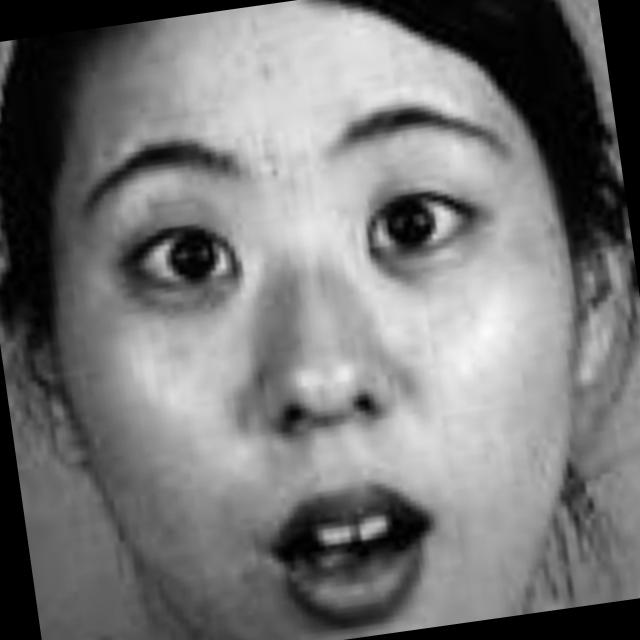surprise: (30, 25, 592, 640)
